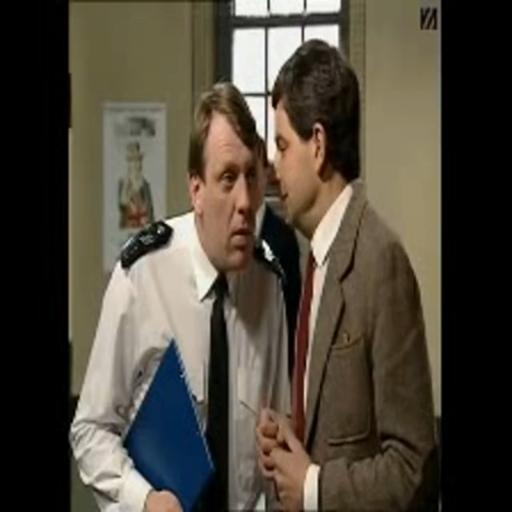nao-violencia: (67, 34, 440, 512)
